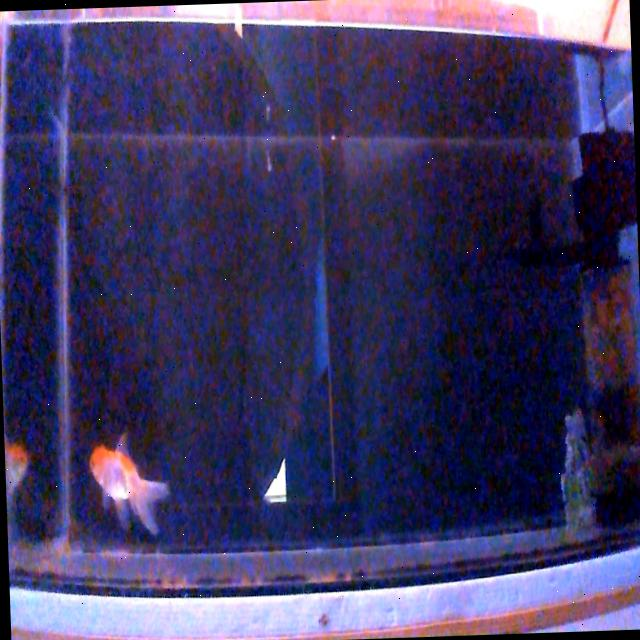fish: (88, 432, 170, 540), (6, 441, 31, 492)
